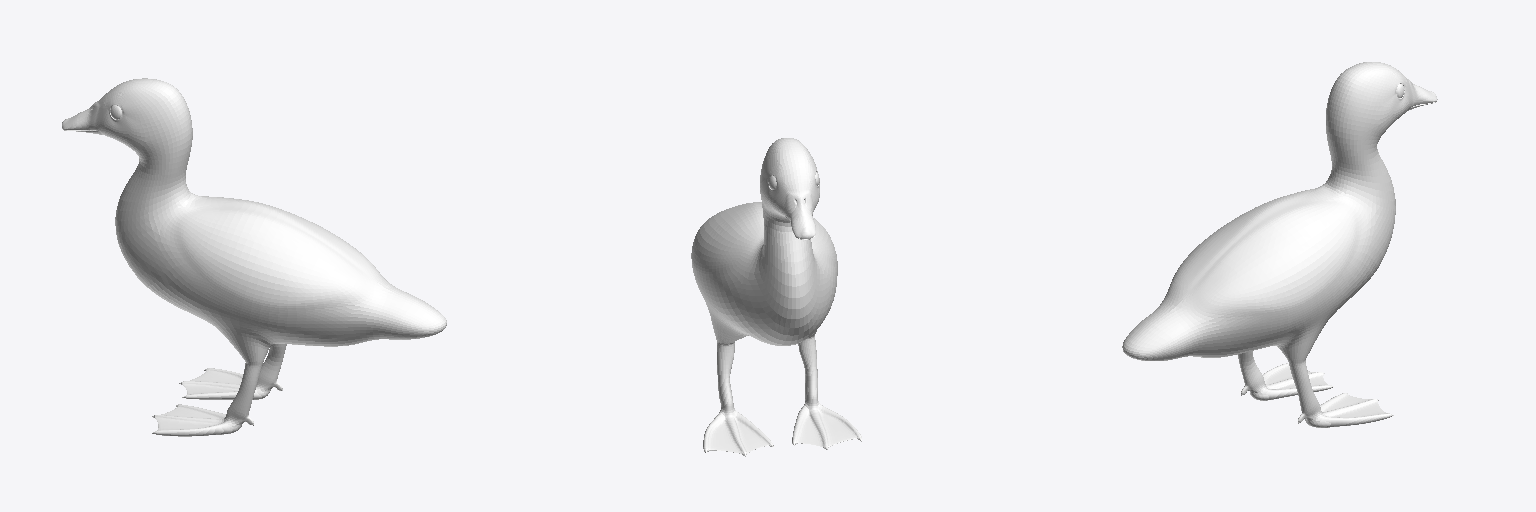
The model's file is Ratusca5.obj.
The picture shows the model from 3 angles: view 1: azimuth 30°, elevation 25°; view 2: azimuth 150°, elevation 25°; view 3: azimuth 270°, elevation 25°; orthographic projection.
Parts seen in each view (by area): view 1: 12250_Bird_v1_L3.004; view 2: 12250_Bird_v1_L3.004; view 3: 12250_Bird_v1_L3.004.
Part boxes in pixels (x1,y1,x2,y2): 12250_Bird_v1_L3.004: (62,78,446,436); 12250_Bird_v1_L3.004: (691,138,861,456); 12250_Bird_v1_L3.004: (1122,62,1437,427).
Size of the model in its own units: 0.352 by 0.4476 by 0.4008.